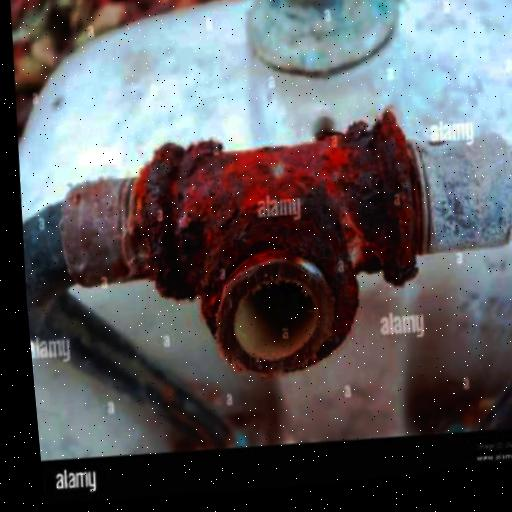corrosion: (109, 111, 459, 383)
